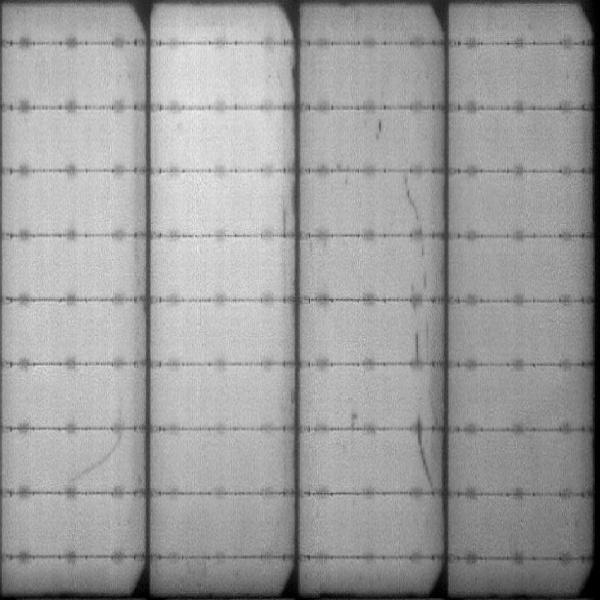scratch: (58, 434, 128, 488), (399, 171, 429, 233), (416, 414, 432, 494), (411, 326, 427, 366), (277, 201, 290, 237)
